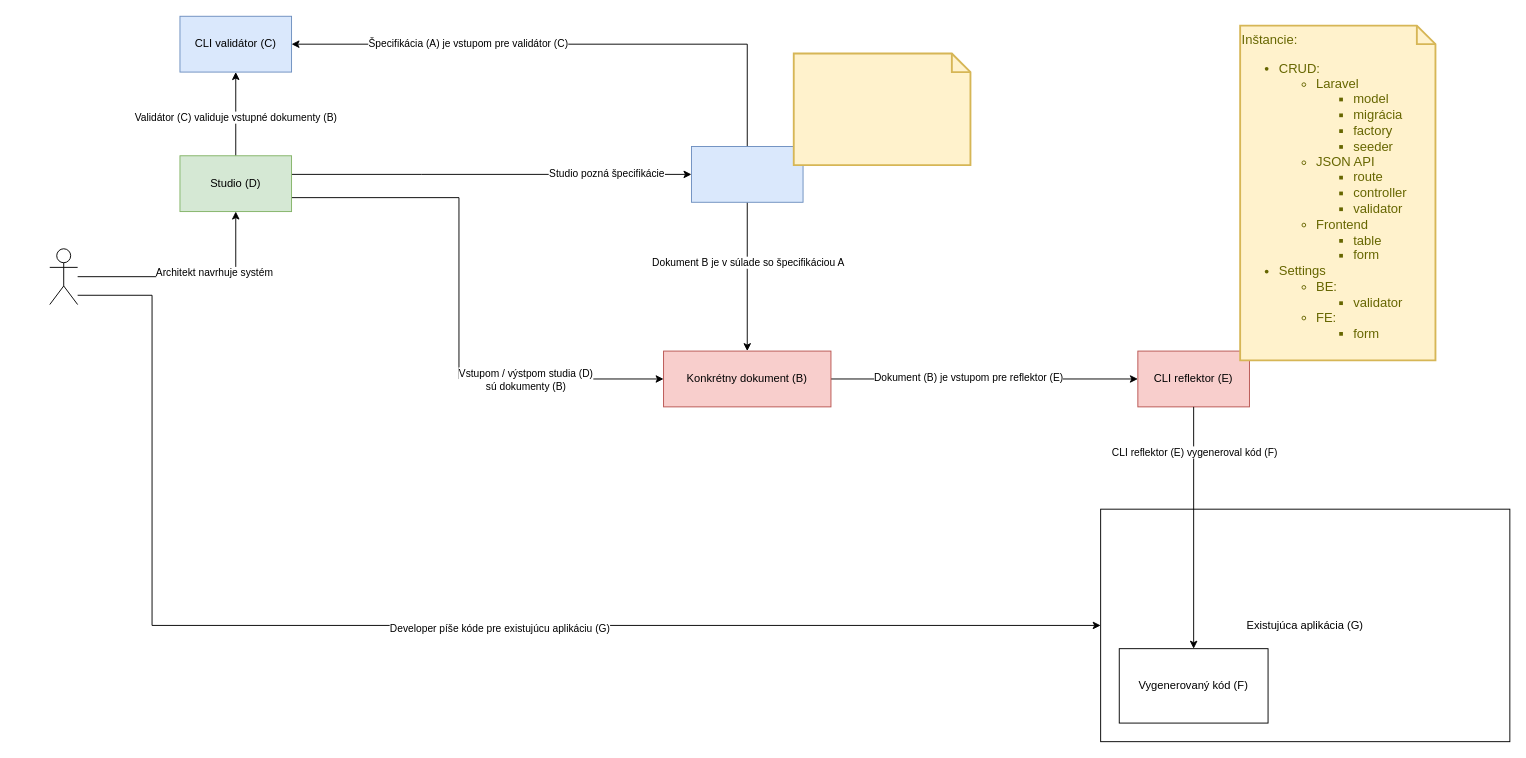
This 1526x758 diagram has some shape labels left out. Each missing label, with the centre of its shape:
Developer/architekt: the point at 63,276
Inštancie: databázový model CRUD settings: the point at 881,109
Špecifikácia (A): the point at 747,174
